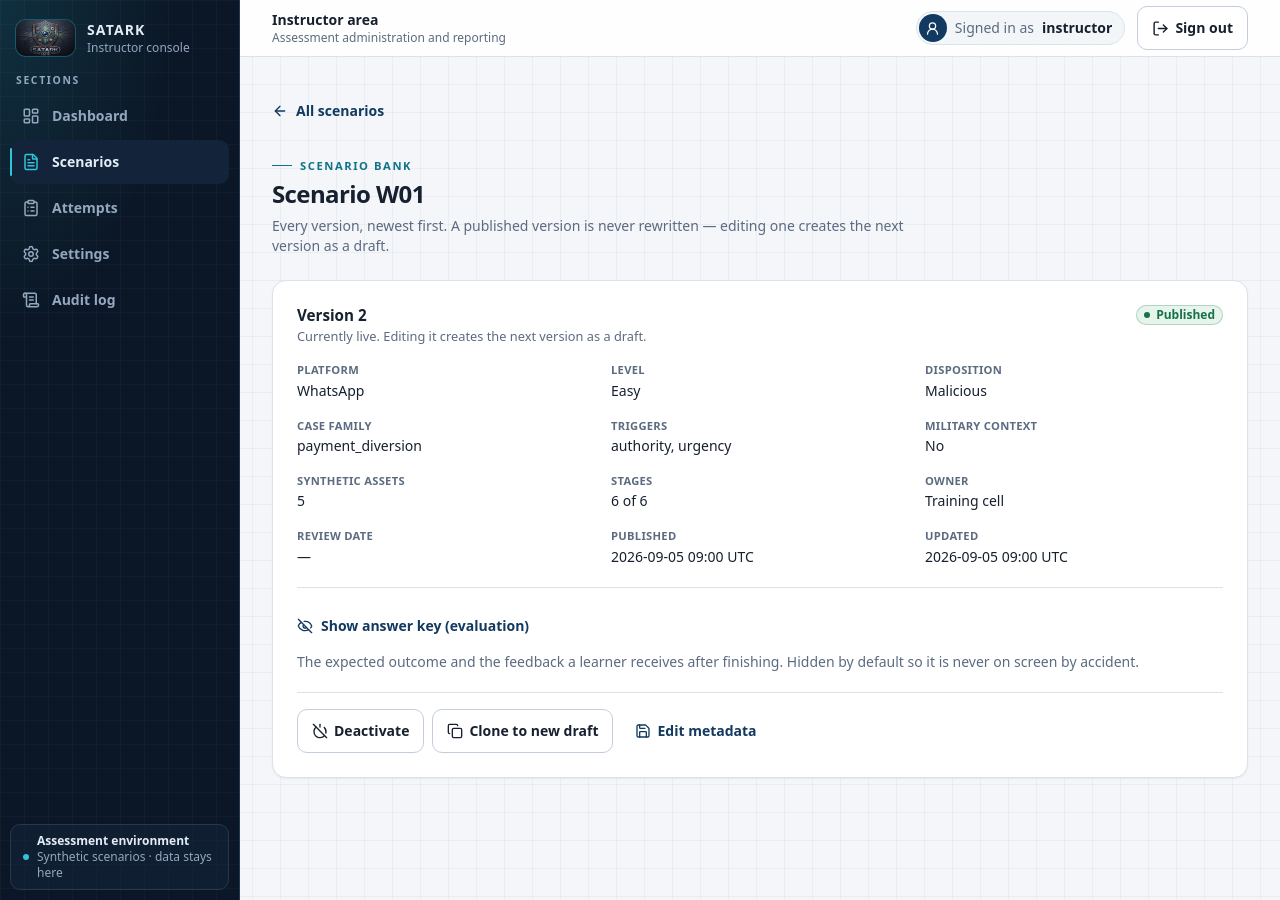
Test case: the scenario manager › clones a version into a new draft
The image size is (1280, 900).
Expected: the heading "Version 2" is shown, [297,305,367,325]
Step 1. Click the button "Clone to new draft" → (523, 731), box [432,709,614,753]
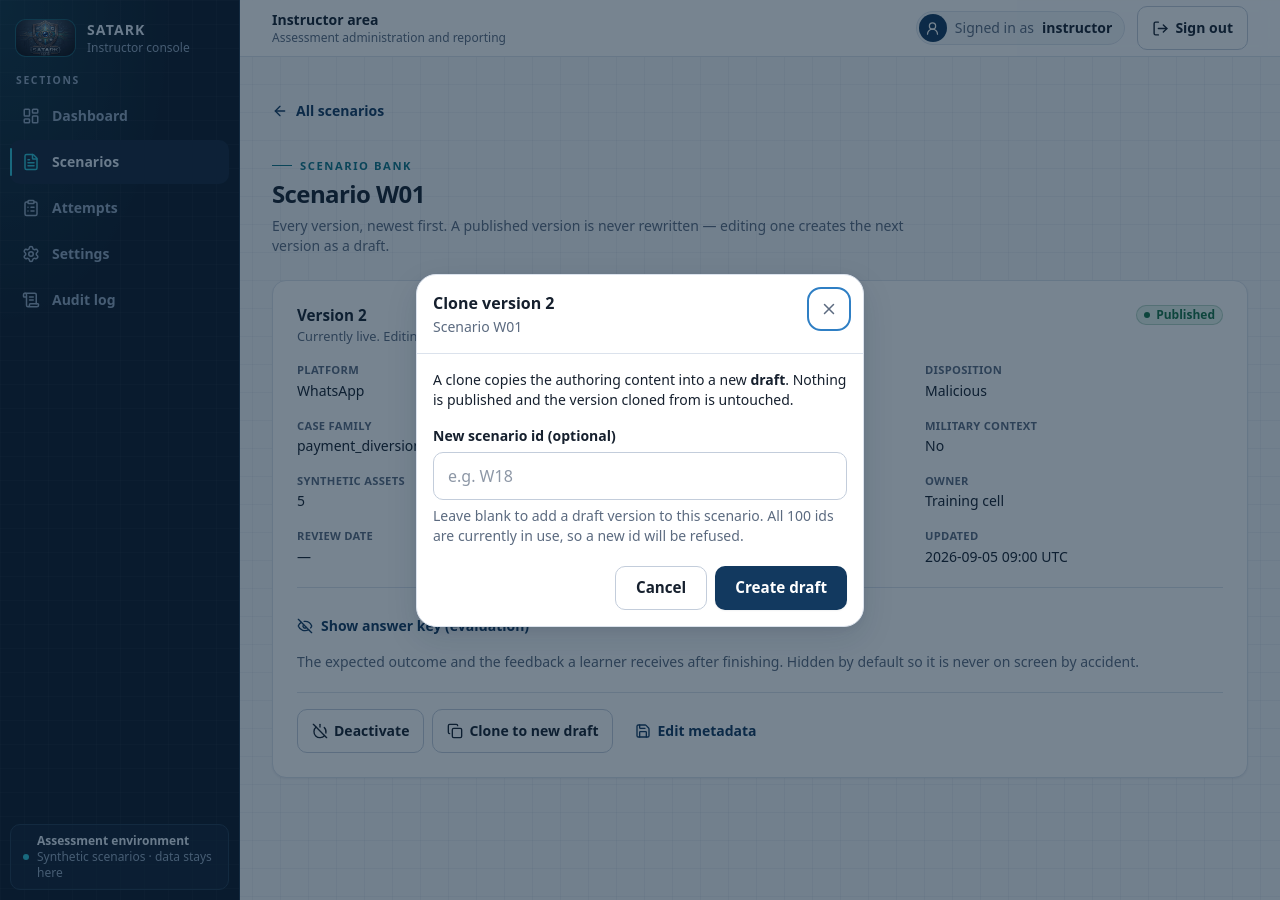
Step 2. Click the button "Create draft" → (781, 588), box [715,566,847,610]
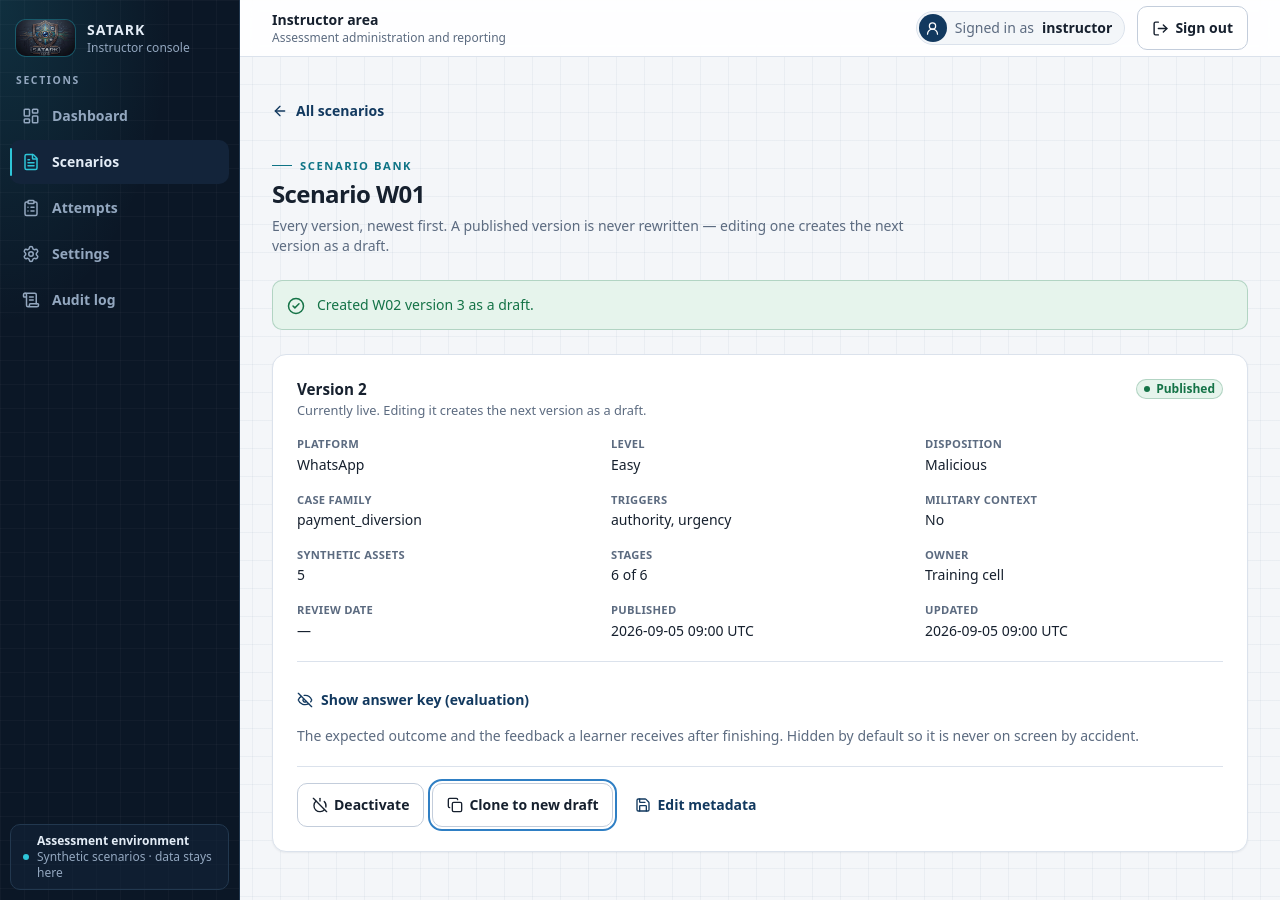
Expected: the text "Created W02 version 3 as a draft." is shown, [317,295,534,315]
